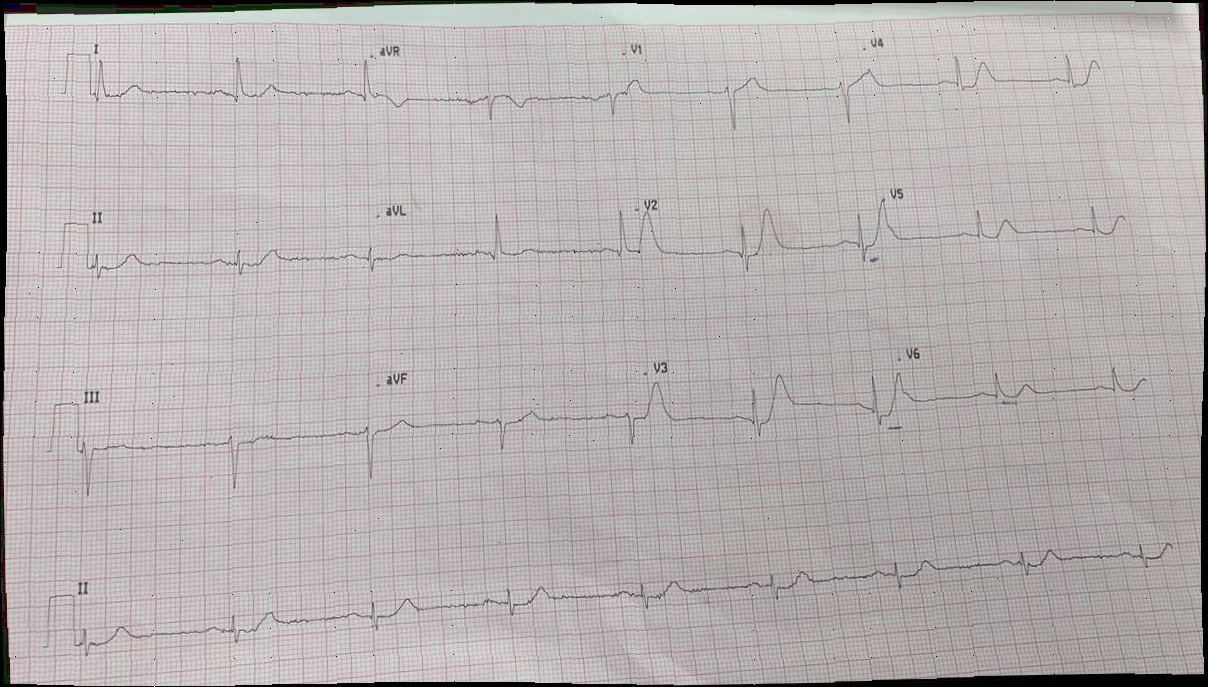Lead_I: (80, 25, 369, 126)
Lead_II: (77, 189, 369, 298)
Lead_III: (72, 373, 382, 506)
Lead_II_ext: (63, 541, 1196, 661)
Lead_V1: (619, 23, 859, 149)
Lead_V2: (625, 173, 877, 293)
Lead_V3: (640, 342, 898, 457)
Lead_V4: (860, 13, 1106, 133)
Lead_V5: (872, 167, 1135, 274)
Lead_V6: (895, 328, 1157, 433)
Lead_aVF: (375, 360, 644, 469)
Lead_aVL: (365, 183, 631, 289)
Lead_aVR: (362, 27, 620, 137)
